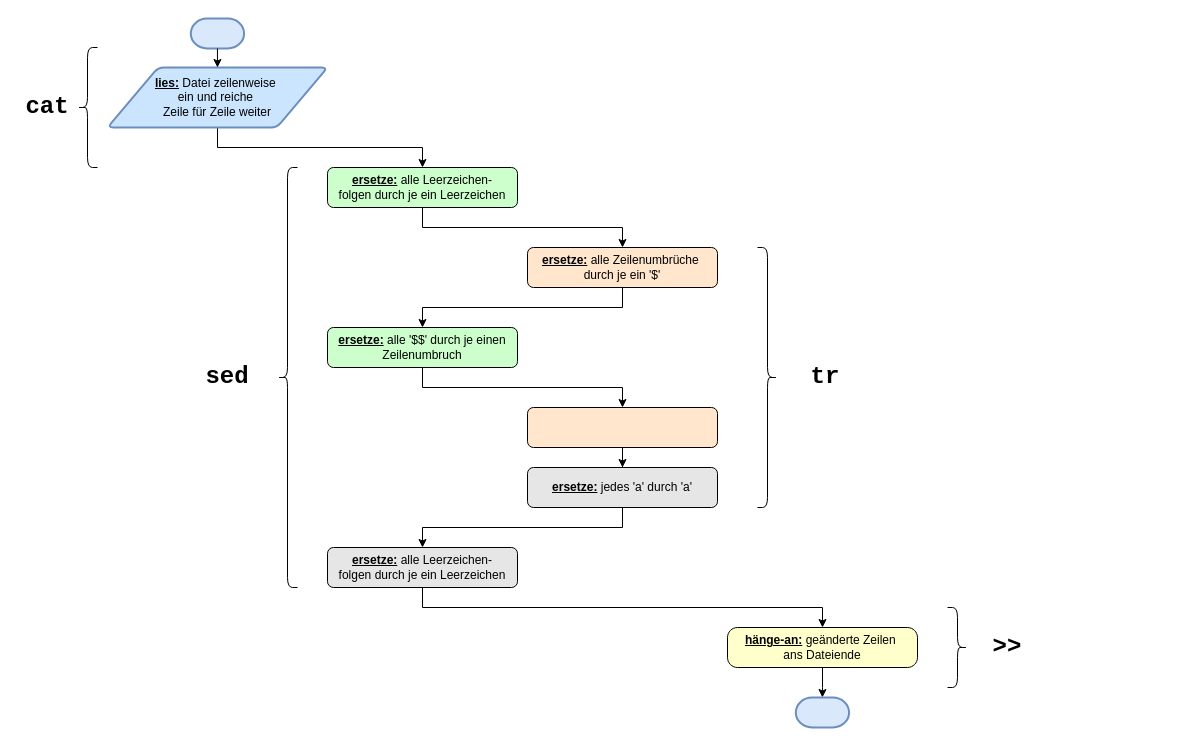
The diagram is 1185 pixels wide and 745 high, and some of its shapes have lost their labels. The centre of each missing label's shape, as x and y in pixels:
END: point (822, 712)
lösche: alle verbliebenen '$': point (622, 427)
Start: point (217, 33)
